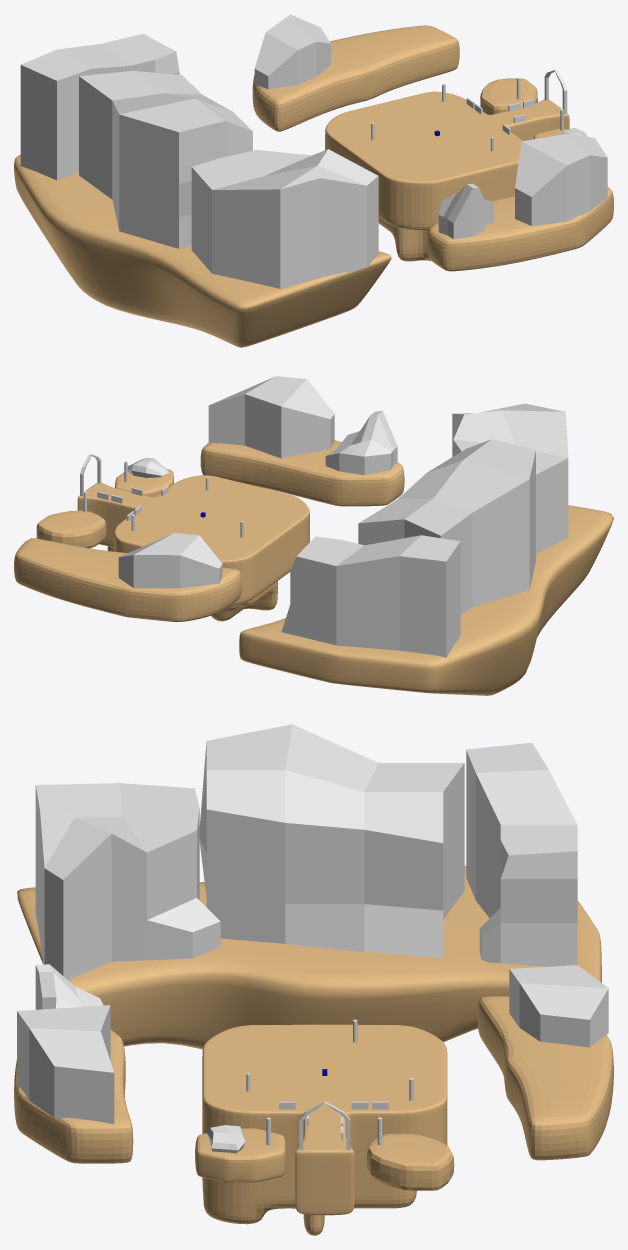
The model's file is Sala1.fbx.
3 renders of one model, top to bottom at view 1: azimuth 30°, elevation 25°; view 2: azimuth 150°, elevation 25°; view 3: azimuth 270°, elevation 25°, orthographic. The views are drawn at different scales.
Parts seen in each view (by area): view 1: Cube.004, Cube.001, Base 1-1, Cube, Cube.007, Cube.005, Cube.008, Cube.003; view 2: Cube.004, Cube.001, Cube, Base 1-1, Cube.007, Cube.005, Cube.008, Cube.003, Cube.002, Cube.006; view 3: Cube.004, Cube.001, Base 1-1, Cube, Cube.007, Cube.005, Cube.003, Cube.002, Cube.008, Cube.006.
Boxes of the visible parts, left/top/right/bottom form: Cube.004: left=20, top=33, right=378, bottom=288; Cube.001: left=14, top=154, right=391, bottom=347; Base 1-1: left=325, top=91, right=569, bottom=261; Cube: left=252, top=25, right=613, bottom=271; Cube.007: left=515, top=134, right=607, bottom=226; Cube.005: left=254, top=14, right=331, bottom=89; Cube.008: left=438, top=183, right=494, bottom=239; Cube.003: left=480, top=78, right=537, bottom=114; Cube.004: left=281, top=403, right=568, bottom=657; Cube.001: left=239, top=505, right=613, bottom=695; Cube: left=14, top=440, right=404, bottom=621; Base 1-1: left=77, top=475, right=309, bottom=621; Cube.007: left=208, top=376, right=334, bottom=458; Cube.005: left=118, top=533, right=222, bottom=588; Cube.008: left=325, top=410, right=397, bottom=475; Cube.003: left=36, top=510, right=106, bottom=548; Cube.002: left=115, top=469, right=173, bottom=497; Cube.006: left=127, top=457, right=169, bottom=477; Cube.004: left=35, top=724, right=577, bottom=979; Cube.001: left=17, top=865, right=601, bottom=1049; Base 1-1: left=202, top=1024, right=447, bottom=1235; Cube: left=14, top=996, right=613, bottom=1163; Cube.007: left=17, top=1005, right=114, bottom=1124; Cube.005: left=509, top=965, right=608, bottom=1047; Cube.003: left=366, top=1134, right=454, bottom=1190; Cube.002: left=195, top=1128, right=286, bottom=1182; Cube.008: left=35, top=964, right=103, bottom=1009; Cube.006: left=206, top=1125, right=245, bottom=1153.
Bounding box in the file's own units: 23330 × 28637 × 11752.
